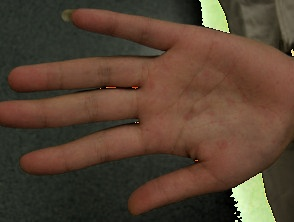SJS-TEN: (140, 54, 294, 177)
